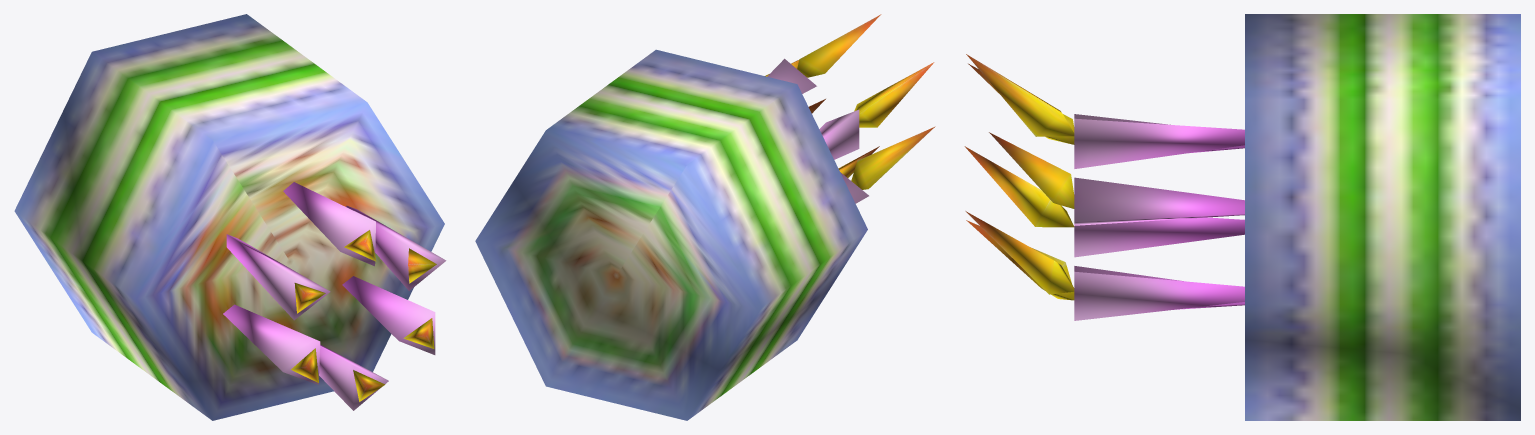
Rendered from birthday-cake.glb.
3 views of the same model, side by side, from view 1: azimuth 30°, elevation 25°; view 2: azimuth 150°, elevation 25°; view 3: azimuth 270°, elevation 25° (orthographic). The views are drawn at different scales.
Parts seen in each view (by area): view 1: birthday-cake, birthday_cake, joint_scale_flame1, joint_scale_flame3, joint_scale_flame2, joint_scale_flame4, joint_scale_flame6, joint_scale_flame5; view 2: birthday-cake, birthday_cake, joint_scale_flame5, joint_scale_flame4, joint_scale_flame6; view 3: birthday-cake, birthday_cake, joint_scale_flame6, joint_scale_flame4, joint_scale_flame2, joint_scale_flame1, joint_scale_flame3.
Part boxes in pixels (x1,y1,x2,y2): birthday-cake: (14, 14, 444, 420); birthday_cake: (223, 182, 446, 410); joint_scale_flame1: (408, 248, 436, 283); joint_scale_flame3: (353, 370, 385, 401); joint_scale_flame2: (403, 318, 434, 348); joint_scale_flame4: (291, 348, 318, 382); joint_scale_flame6: (344, 230, 376, 261); joint_scale_flame5: (294, 283, 325, 313); birthday-cake: (475, 49, 867, 420); birthday_cake: (767, 58, 868, 203); joint_scale_flame5: (854, 62, 934, 127); joint_scale_flame4: (851, 126, 935, 189); joint_scale_flame6: (797, 14, 881, 77); birthday-cake: (1245, 14, 1520, 420); birthday_cake: (1074, 114, 1244, 320); joint_scale_flame6: (966, 54, 1074, 136); joint_scale_flame4: (964, 146, 1074, 227); joint_scale_flame2: (965, 211, 1074, 294); joint_scale_flame1: (989, 132, 1074, 208); joint_scale_flame3: (966, 220, 1074, 300).
Size of the model in its own units: 1.86 by 1.61 by 2.53.
2 materials, 2 textured.
